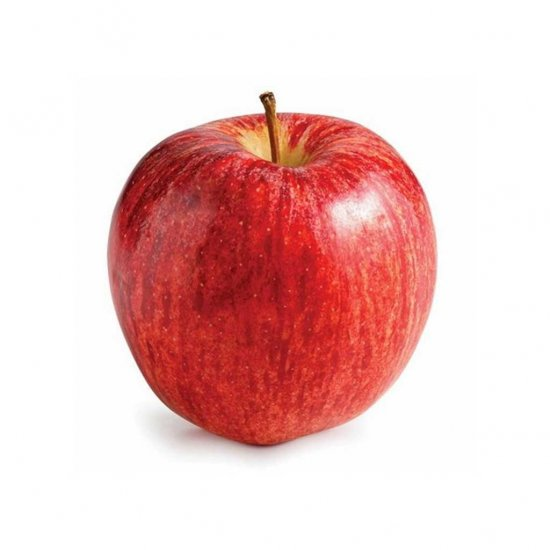elma: (114, 101, 437, 447)
